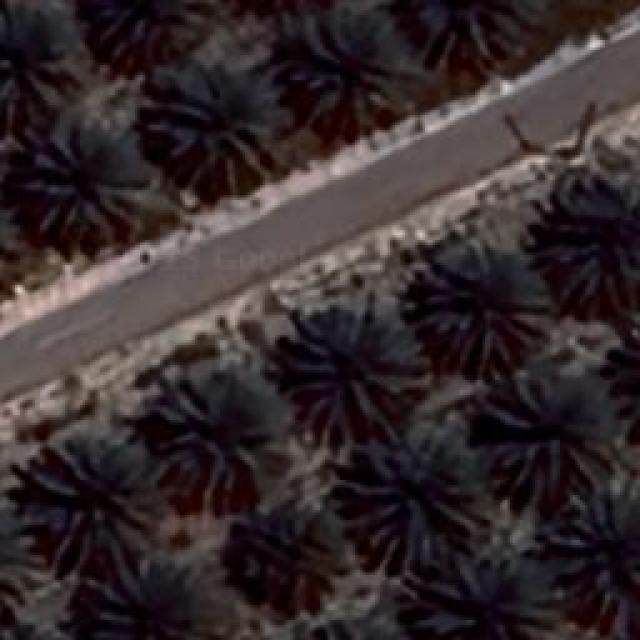PalmTree: (83, 83, 153, 596), (22, 125, 83, 561), (342, 420, 488, 562), (282, 310, 428, 432), (415, 245, 550, 375), (152, 55, 278, 190), (220, 484, 345, 608), (32, 438, 166, 552), (25, 120, 150, 238), (482, 378, 610, 492), (408, 547, 560, 635), (544, 180, 638, 308), (290, 9, 395, 122), (155, 388, 260, 482), (560, 478, 638, 600), (0, 0, 82, 115), (90, 0, 208, 60), (420, 0, 520, 62), (615, 314, 640, 442), (290, 619, 414, 640), (0, 184, 21, 300), (622, 317, 640, 443), (0, 178, 15, 300), (0, 617, 77, 640), (1, 621, 90, 640), (224, 0, 340, 10)
